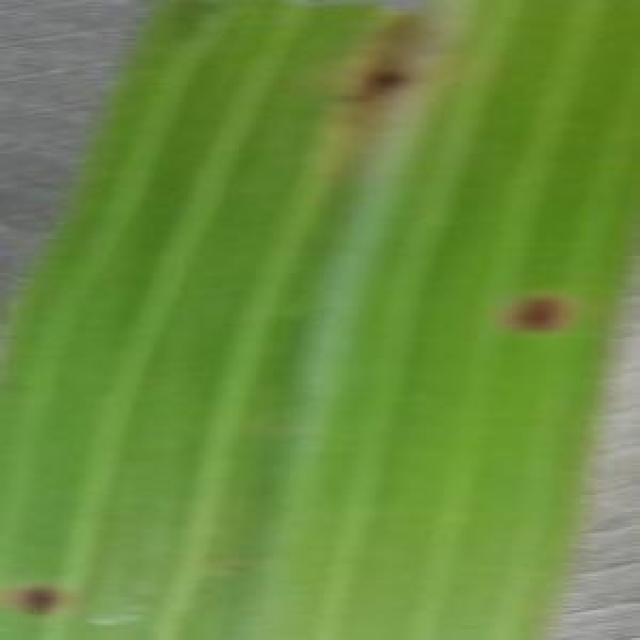brownspots: (346, 34, 426, 94), (506, 284, 570, 338), (14, 564, 72, 614)
